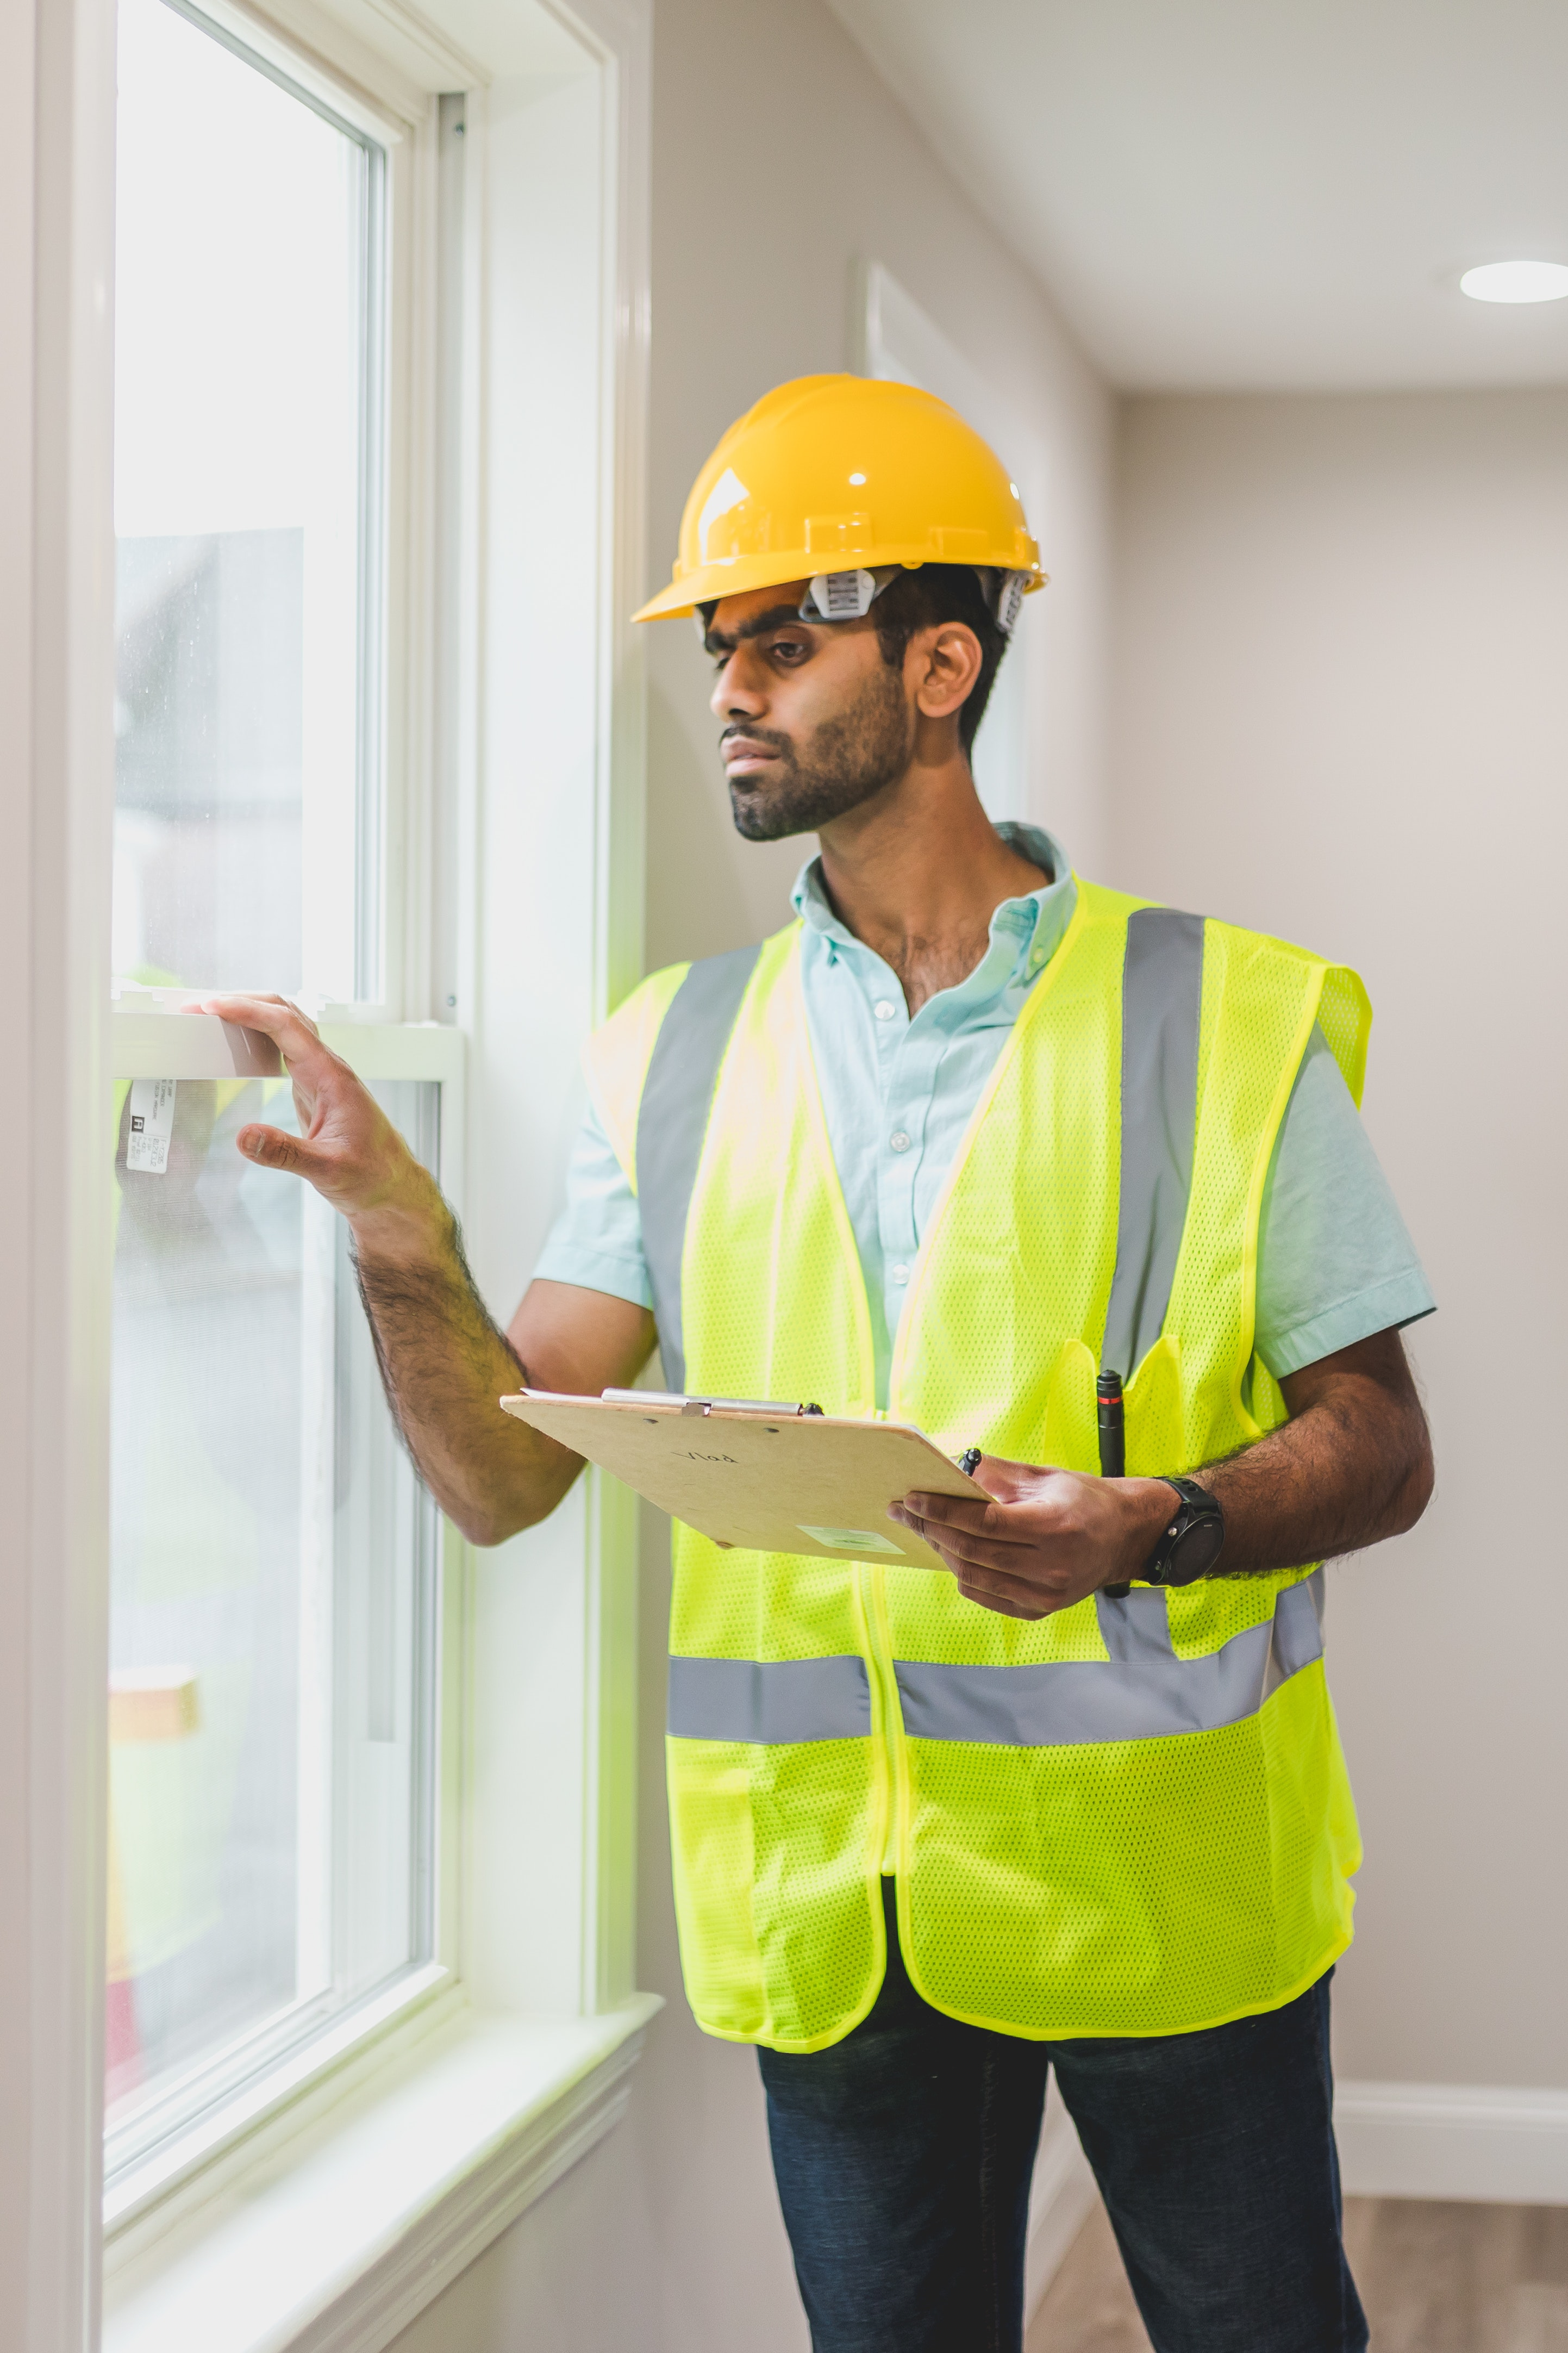Helmet: (584, 345, 1125, 919)
Reflective vest: (567, 879, 1386, 2054)
